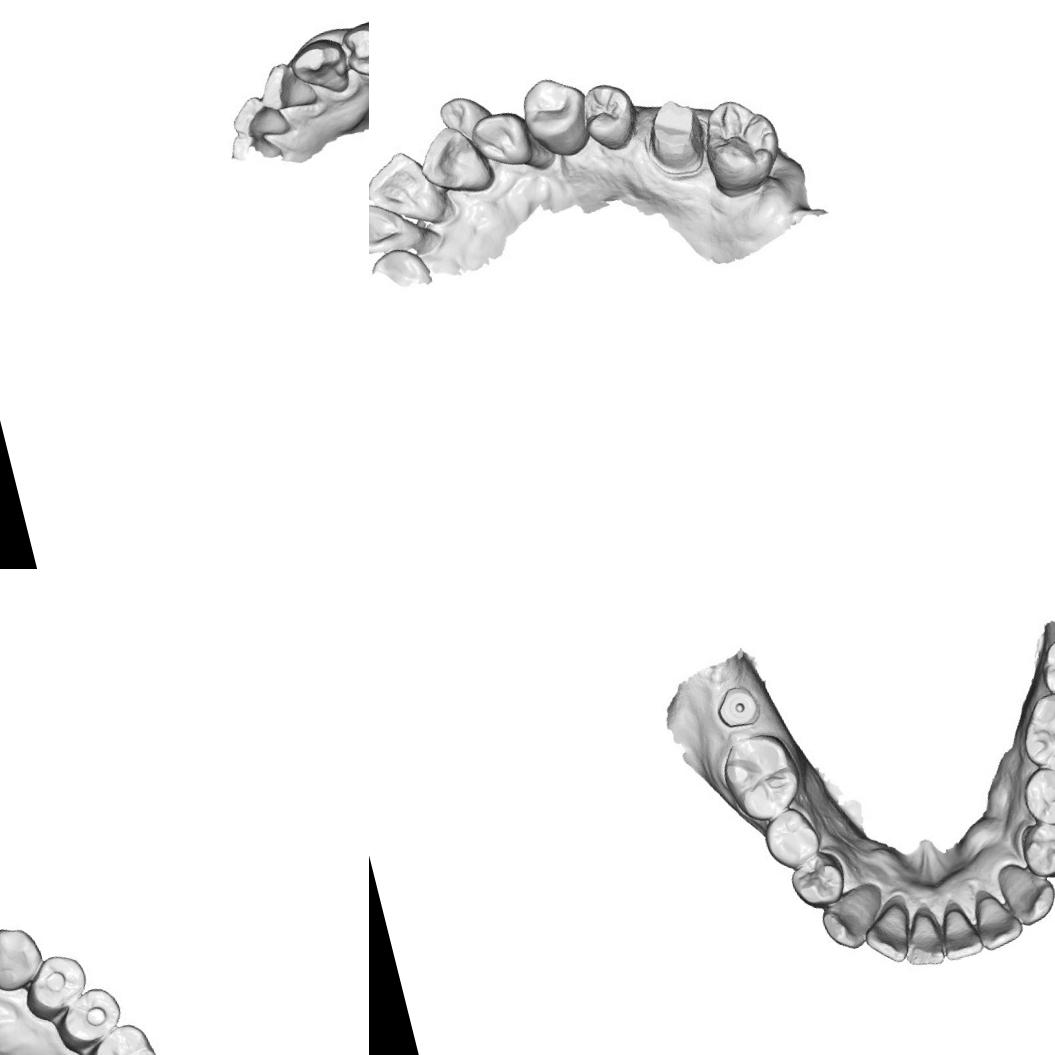canine: (814, 879, 892, 955), (470, 100, 545, 176), (284, 34, 356, 104), (992, 853, 1055, 930), (0, 918, 47, 996)
crown: (643, 96, 708, 178)
implant: (712, 679, 762, 732)
incisor: (369, 141, 447, 237), (420, 114, 498, 207), (369, 185, 435, 263), (252, 54, 321, 117), (858, 900, 917, 968), (226, 88, 293, 146), (968, 888, 1026, 953), (432, 81, 493, 140), (895, 908, 947, 972), (934, 903, 985, 963)
molar: (690, 88, 791, 202), (714, 725, 808, 827), (1012, 682, 1055, 785), (74, 1016, 167, 1055), (1034, 630, 1055, 705)
premolar: (516, 70, 593, 166), (15, 947, 96, 1029), (47, 980, 130, 1055), (578, 76, 641, 154), (757, 802, 824, 875), (784, 846, 850, 913), (1016, 759, 1055, 834), (1015, 814, 1055, 883), (337, 14, 369, 84)
